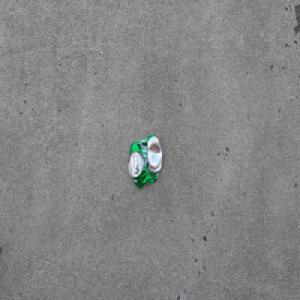SodaCan: (127, 133, 162, 189)
